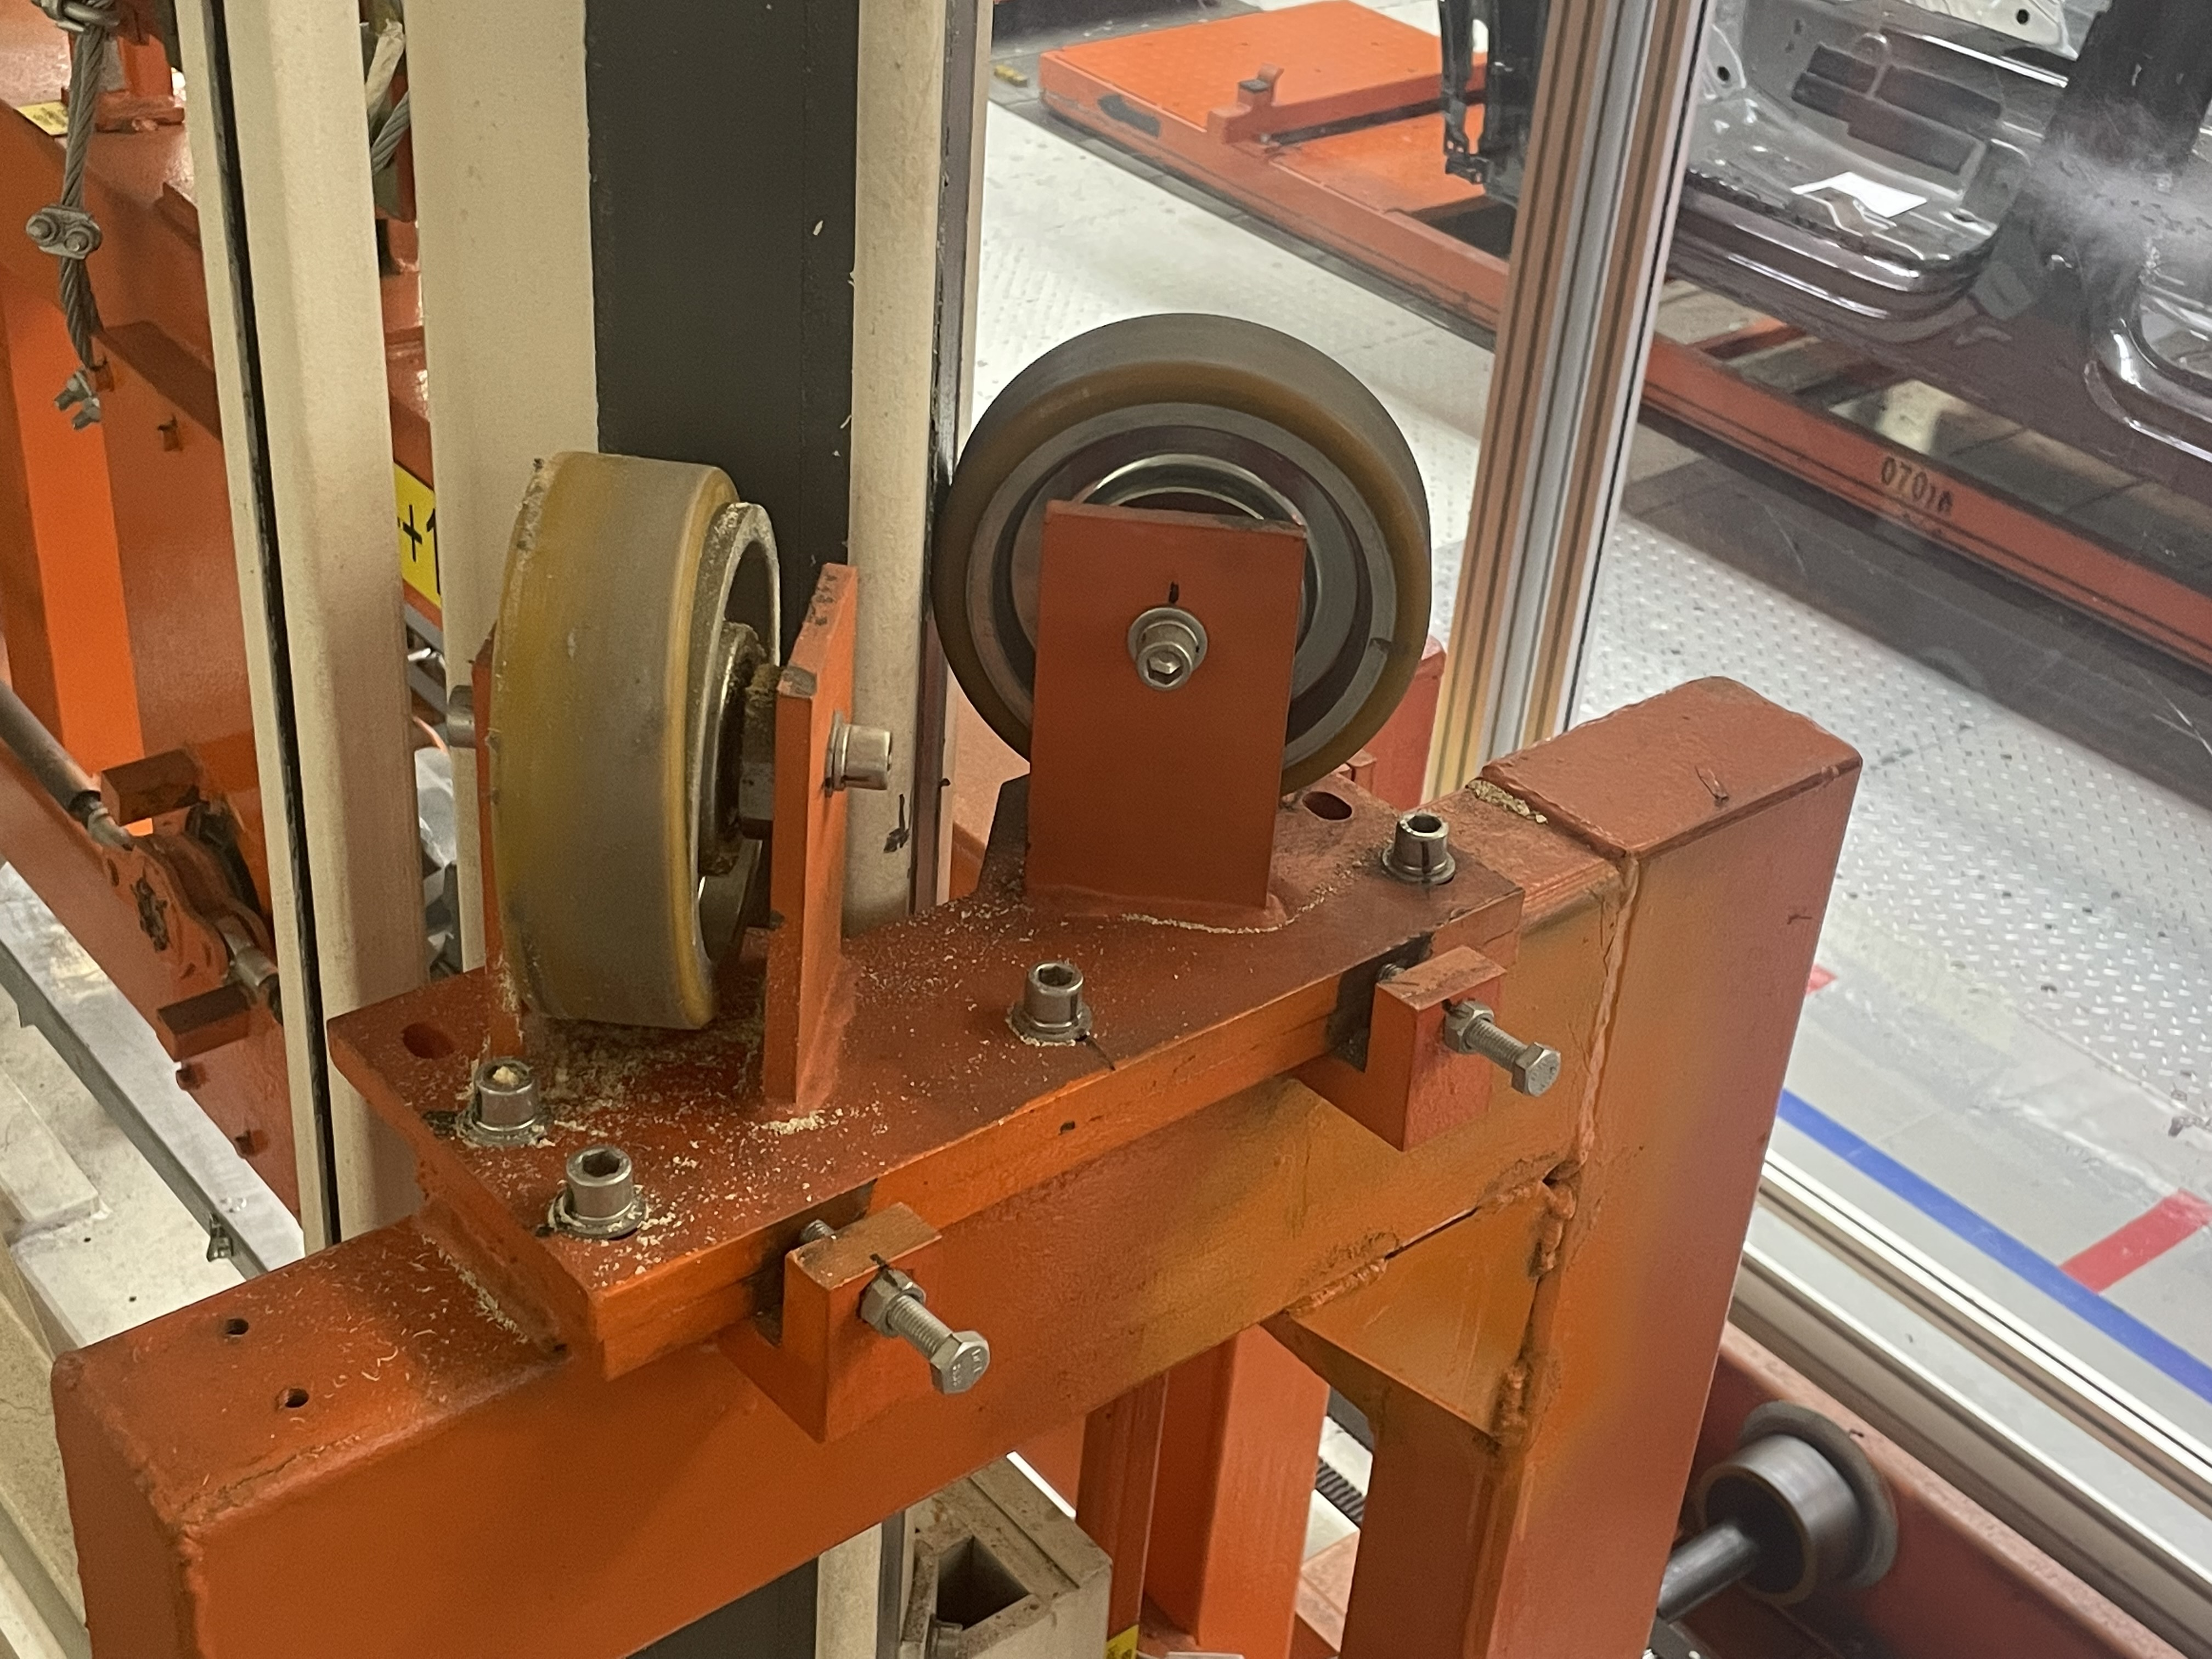bad_wheel: (672, 434, 829, 826), (496, 958, 702, 1122), (737, 1080, 850, 1164)
good_wheel: (942, 329, 1449, 805)
